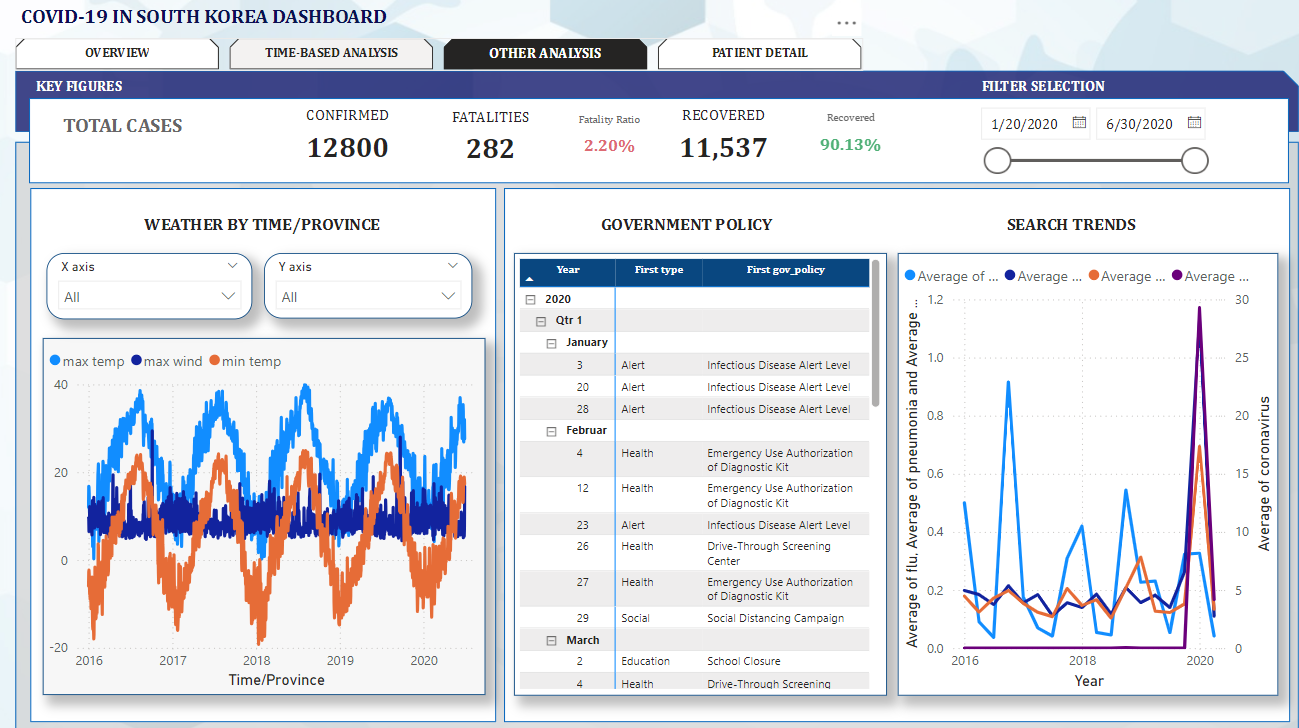

What the dashboard file says about the page in this screenshot:
{"tool":"powerbi","page":{"name":"OTHER ANALYSIS","canvas":[1280,720],"ordinal":2},"visuals":[{"type":"textbox","box":[35,11.2,378.8,36.2],"z":0},{"type":"shape","box":[35,146.2,1222.5,560],"z":1000},{"type":"shape","title":"Key figures","box":[35,78.8,1222.5,58.8],"z":2000},{"type":"shape","box":[47.6,105,1200,81.2],"z":3000,"group":"g1"},{"type":"group","id":"g1","title":"Group 1","box":[47.6,105,1201.4,595],"z":3000},{"type":"textbox","box":[950,78.8,140,51.2],"z":4000},{"type":"shape","box":[49,191.2,443.8,508.8],"z":4000,"group":"g1"},{"type":"textbox","box":[48.8,78.6,109.5,34.5],"z":5000},{"type":"card","title":"CONFIRMED","fields":{"Values":["Max(Time.confirmed)"]},"box":[294.2,112.3,114.1,62.4],"z":6000},{"type":"card","title":"FATALITIES","fields":{"Values":["Max(Time.deceased)"]},"box":[427.5,113.8,120,60],"z":7000},{"type":"slicer","fields":{"Values":["Time.date"]},"box":[941.2,103.8,237.5,80],"z":8000},{"type":"card","title":"RECOVERED","fields":{"Values":["Max(Time.released)"]},"box":[641.2,112.5,135,62.5],"z":9000},{"type":"pageNavigator","box":[34.5,47.6,807.1,31],"z":10000},{"type":"textbox","box":[74.5,114.2,145.2,57.1],"z":11000},{"type":"shape","box":[500.2,191.2,748.8,508.8],"z":12000,"group":"g1"},{"type":"card","title":"Fatality Ratio","fields":{"Values":["MEASURE.Fatality Ratio"]},"box":[548,117.4,105.5,54.6],"z":12000},{"type":"card","title":"Recovered","fields":{"Values":["MEASURE.Recovered"]},"box":[782.9,117.1,93.7,54],"z":13000},{"type":"slicer","fields":{"Values":["x axis.x axis"]},"box":[64,252.5,196.2,63],"z":14000},{"type":"slicer","fields":{"Values":["y axis.y axis"]},"box":[271.2,252.5,198.8,62.5],"z":15000},{"type":"lineChart","fields":{"Category":["Weather.date","Weather.province"],"Y":["MEASURE.max temp","MEASURE.max wind","MEASURE.min temp"]},"box":[61.2,333.8,421.2,340],"z":16000},{"type":"pivotTable","fields":{"Rows":["Policy.start_date.Variation.Date Hierarchy.Year","Policy.start_date.Variation.Date Hierarchy.Quarter","Policy.start_date.Variation.Date Hierarchy.Month","Policy.start_date.Variation.Date Hierarchy.Day"],"Values":["Min(Policy.type)","Min(Policy.gov_policy)"]},"box":[510,252.5,355,421.2],"z":17000},{"type":"lineChart","fields":{"Category":["SearchTrend.date.Variation.Date Hierarchy.Year","SearchTrend.date.Variation.Date Hierarchy.Quarter","SearchTrend.date.Variation.Date Hierarchy.Month","SearchTrend.date.Variation.Date Hierarchy.Day"],"Y":["Avg(SearchTrend.flu)","Avg(SearchTrend.pneumonia)","Avg(SearchTrend.cold)"],"Y2":["Avg(SearchTrend.coronavirus)"]},"box":[875,252.5,362.5,421.2],"z":18000},{"type":"textbox","box":[587.5,211.2,188.8,41.2],"z":19000},{"type":"textbox","box":[973.8,211.2,147.5,41.2],"z":20000},{"type":"textbox","box":[152.5,211.2,261.2,41.2],"z":21000}]}

Visuals, with their boxes in screenshot pixels (x1, y1, x2, y2), scaled from the page's 1280x720 canvas onto the 1299x728 screenshot:
textbox: 36 11 420 48
shape: 36 148 1276 714
"Key figures" shape: 36 80 1276 139
shape: 48 106 1266 188
"Group 1" group: 48 106 1268 708
textbox: 964 80 1106 131
shape: 50 193 500 708
textbox: 50 79 161 114
"CONFIRMED" card: 299 114 414 177
"FATALITIES" card: 434 115 556 176
slicer - Time.date: 955 105 1196 186
"RECOVERED" card: 651 114 788 177
pageNavigator: 35 48 854 79
textbox: 76 115 223 173
shape: 508 193 1268 708
"Fatality Ratio" card: 556 119 663 174
"Recovered" card: 795 118 890 173
slicer - x axis.x axis: 65 255 264 319
slicer - y axis.y axis: 275 255 477 318
lineChart - Weather.date x Weather.province: 62 338 490 681
pivotTable - Policy.start_date.Variation.Date Hierarchy.Year x Policy.start_date.Variation.Date Hierarchy.Quarter: 518 255 878 681
lineChart - SearchTrend.date.Variation.Date Hierarchy.Year x SearchTrend.date.Variation.Date Hierarchy.Quarter: 888 255 1256 681
textbox: 596 214 788 255
textbox: 988 214 1138 255
textbox: 155 214 420 255
